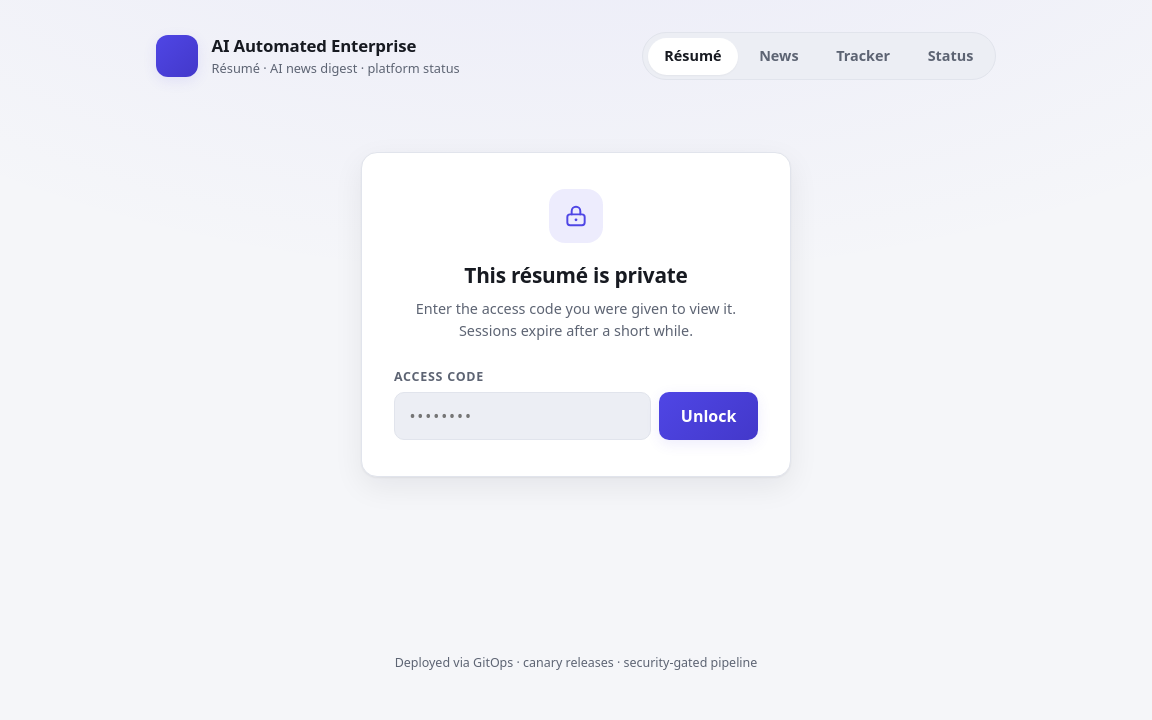
Scenario: App › switches to the news feed tab
Click the button "News": {"x": 779, "y": 56} [742,38,815,74]
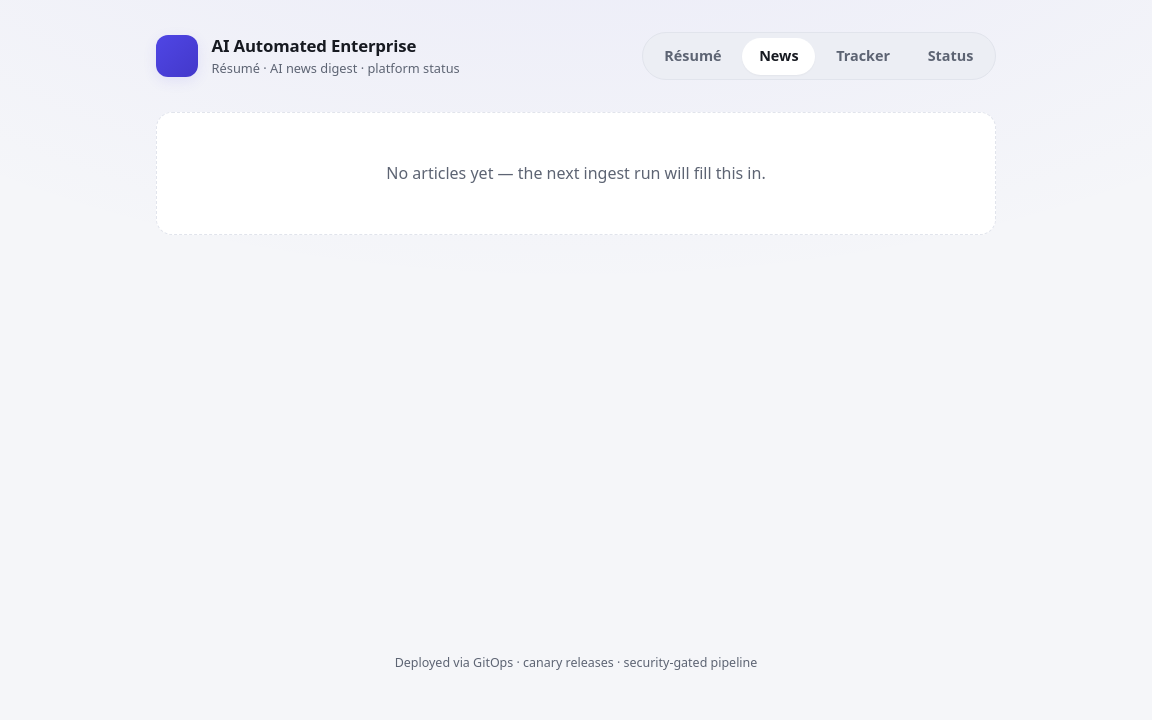
Expected: the text "No articles yet — the next ingest run will fill this in." is shown, [156,112,996,235]
